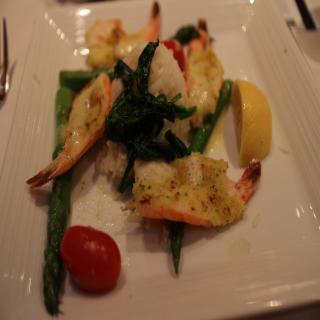tomato: (58, 224, 126, 298)
